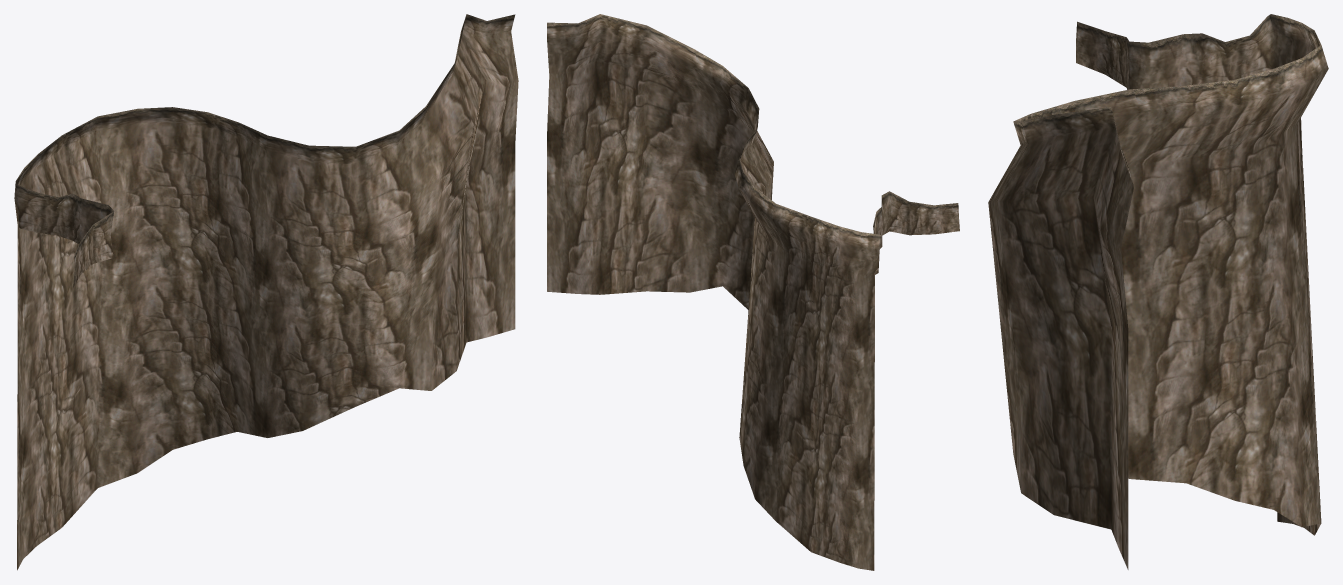
Rendered from OVERHILL_A_01_OBJECT53.fbx.
3 renders of one model, left to right at view 1: azimuth 30°, elevation 25°; view 2: azimuth 150°, elevation 25°; view 3: azimuth 270°, elevation 25°, orthographic. The views are drawn at different scales.
Parts seen in each view (by area): view 1: OVERHILL_A_01_OBJECT53; view 2: OVERHILL_A_01_OBJECT53; view 3: OVERHILL_A_01_OBJECT53.
Part boxes in pixels (bbox=[...]): OVERHILL_A_01_OBJECT53: bbox=[14, 14, 518, 570]; OVERHILL_A_01_OBJECT53: bbox=[547, 14, 959, 570]; OVERHILL_A_01_OBJECT53: bbox=[988, 14, 1328, 569].
Size of the model in its own units: 223891 by 235861 by 110794.
Materials: 2 (2 with a texture image).
